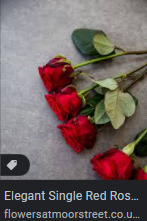RedRose: (42, 81, 89, 121), (90, 143, 139, 181), (56, 116, 97, 156), (38, 52, 78, 89)
